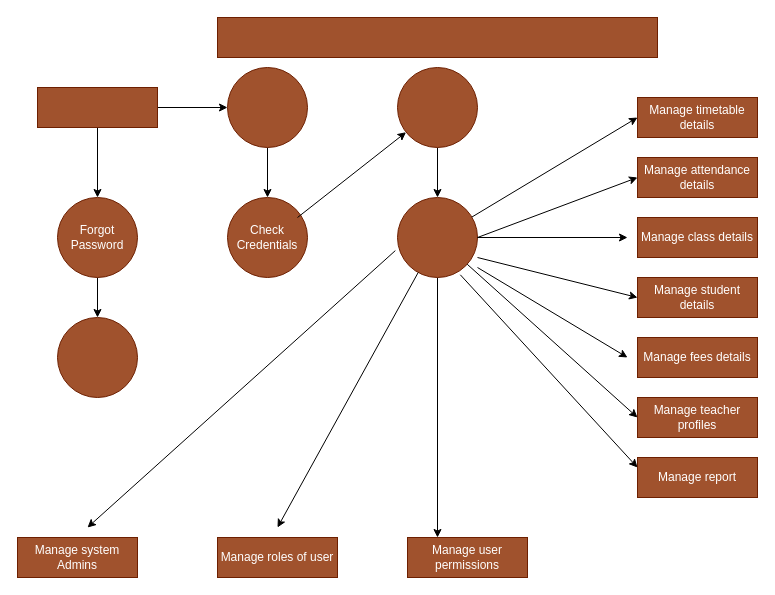
This 775x595 diagram has some shape labels left out. The centre of each missing label's shape, as x and y in pixels:
"Admin" goes at point 97,107.
"check roles of Access" goes at point 437,107.
"Login to system" goes at point 267,107.
"Manage Modules" goes at point 437,237.
"Send email to user" goes at point 97,357.
"Student Information System" goes at point 437,37.
